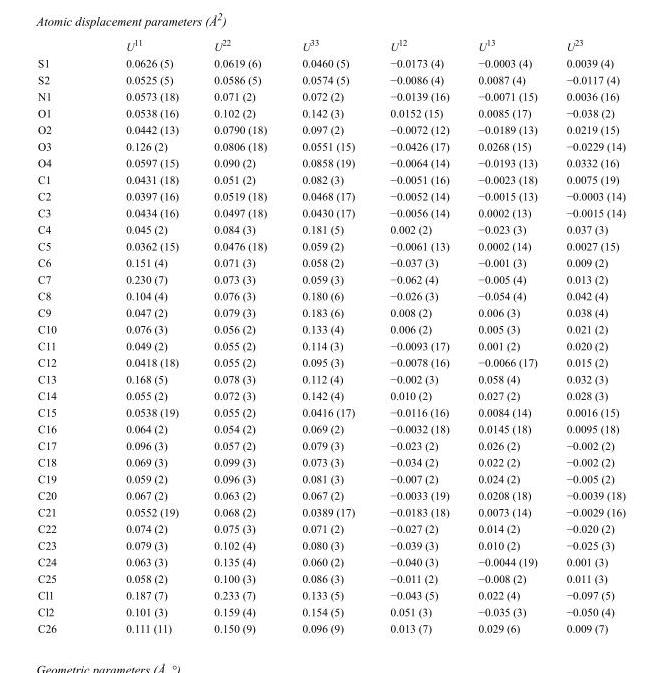table: (37, 37, 624, 634)
table column: (90, 37, 195, 634), (371, 37, 463, 634), (195, 37, 283, 634), (283, 37, 371, 634), (463, 37, 551, 634), (551, 37, 624, 634), (37, 37, 90, 634)
table column header: (37, 37, 624, 54)
table row: (37, 37, 624, 54), (37, 54, 624, 71), (37, 87, 624, 104), (37, 120, 624, 137), (37, 137, 624, 154), (37, 170, 624, 187), (37, 187, 624, 204), (37, 220, 624, 237), (37, 253, 624, 270), (37, 270, 624, 287), (37, 303, 624, 320), (37, 320, 624, 337), (37, 353, 624, 370), (37, 386, 624, 403), (37, 403, 624, 420), (37, 436, 624, 453), (37, 453, 624, 470), (37, 486, 624, 503), (37, 519, 624, 536), (37, 536, 624, 553), (37, 569, 624, 586), (37, 586, 624, 603), (37, 71, 624, 87), (37, 104, 624, 120), (37, 154, 624, 170), (37, 204, 624, 220), (37, 237, 624, 253), (37, 287, 624, 303), (37, 337, 624, 353), (37, 370, 624, 386), (37, 420, 624, 436), (37, 470, 624, 486), (37, 503, 624, 519), (37, 553, 624, 569), (37, 603, 624, 619), (37, 619, 624, 634)
